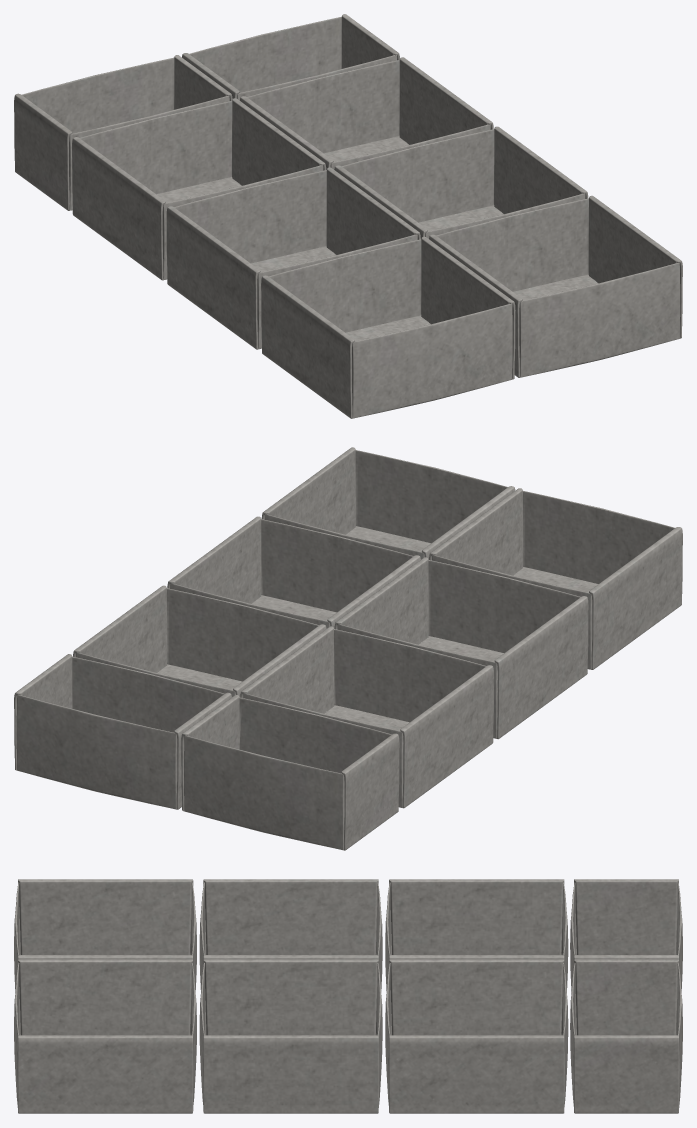
File: komplement_pudeko_8_szt_79260844.glb
The picture shows the model from 3 angles, top to bottom: view 1: azimuth 30°, elevation 25°; view 2: azimuth 150°, elevation 25°; view 3: azimuth 270°, elevation 25°; orthographic projection.
Parts seen in each view (by area): view 1: komplement_pudeko_8_szt_79260844; view 2: komplement_pudeko_8_szt_79260844; view 3: komplement_pudeko_8_szt_79260844.
Boxes of the visible parts, box(x1,y1,x2,y2) form: komplement_pudeko_8_szt_79260844: box(14, 14, 682, 418); komplement_pudeko_8_szt_79260844: box(14, 447, 682, 850); komplement_pudeko_8_szt_79260844: box(14, 879, 682, 1113).
Bounding box in the file's own units: 0.5395 × 0.1224 × 0.9545.
Materials: 1 (1 with a texture image).
